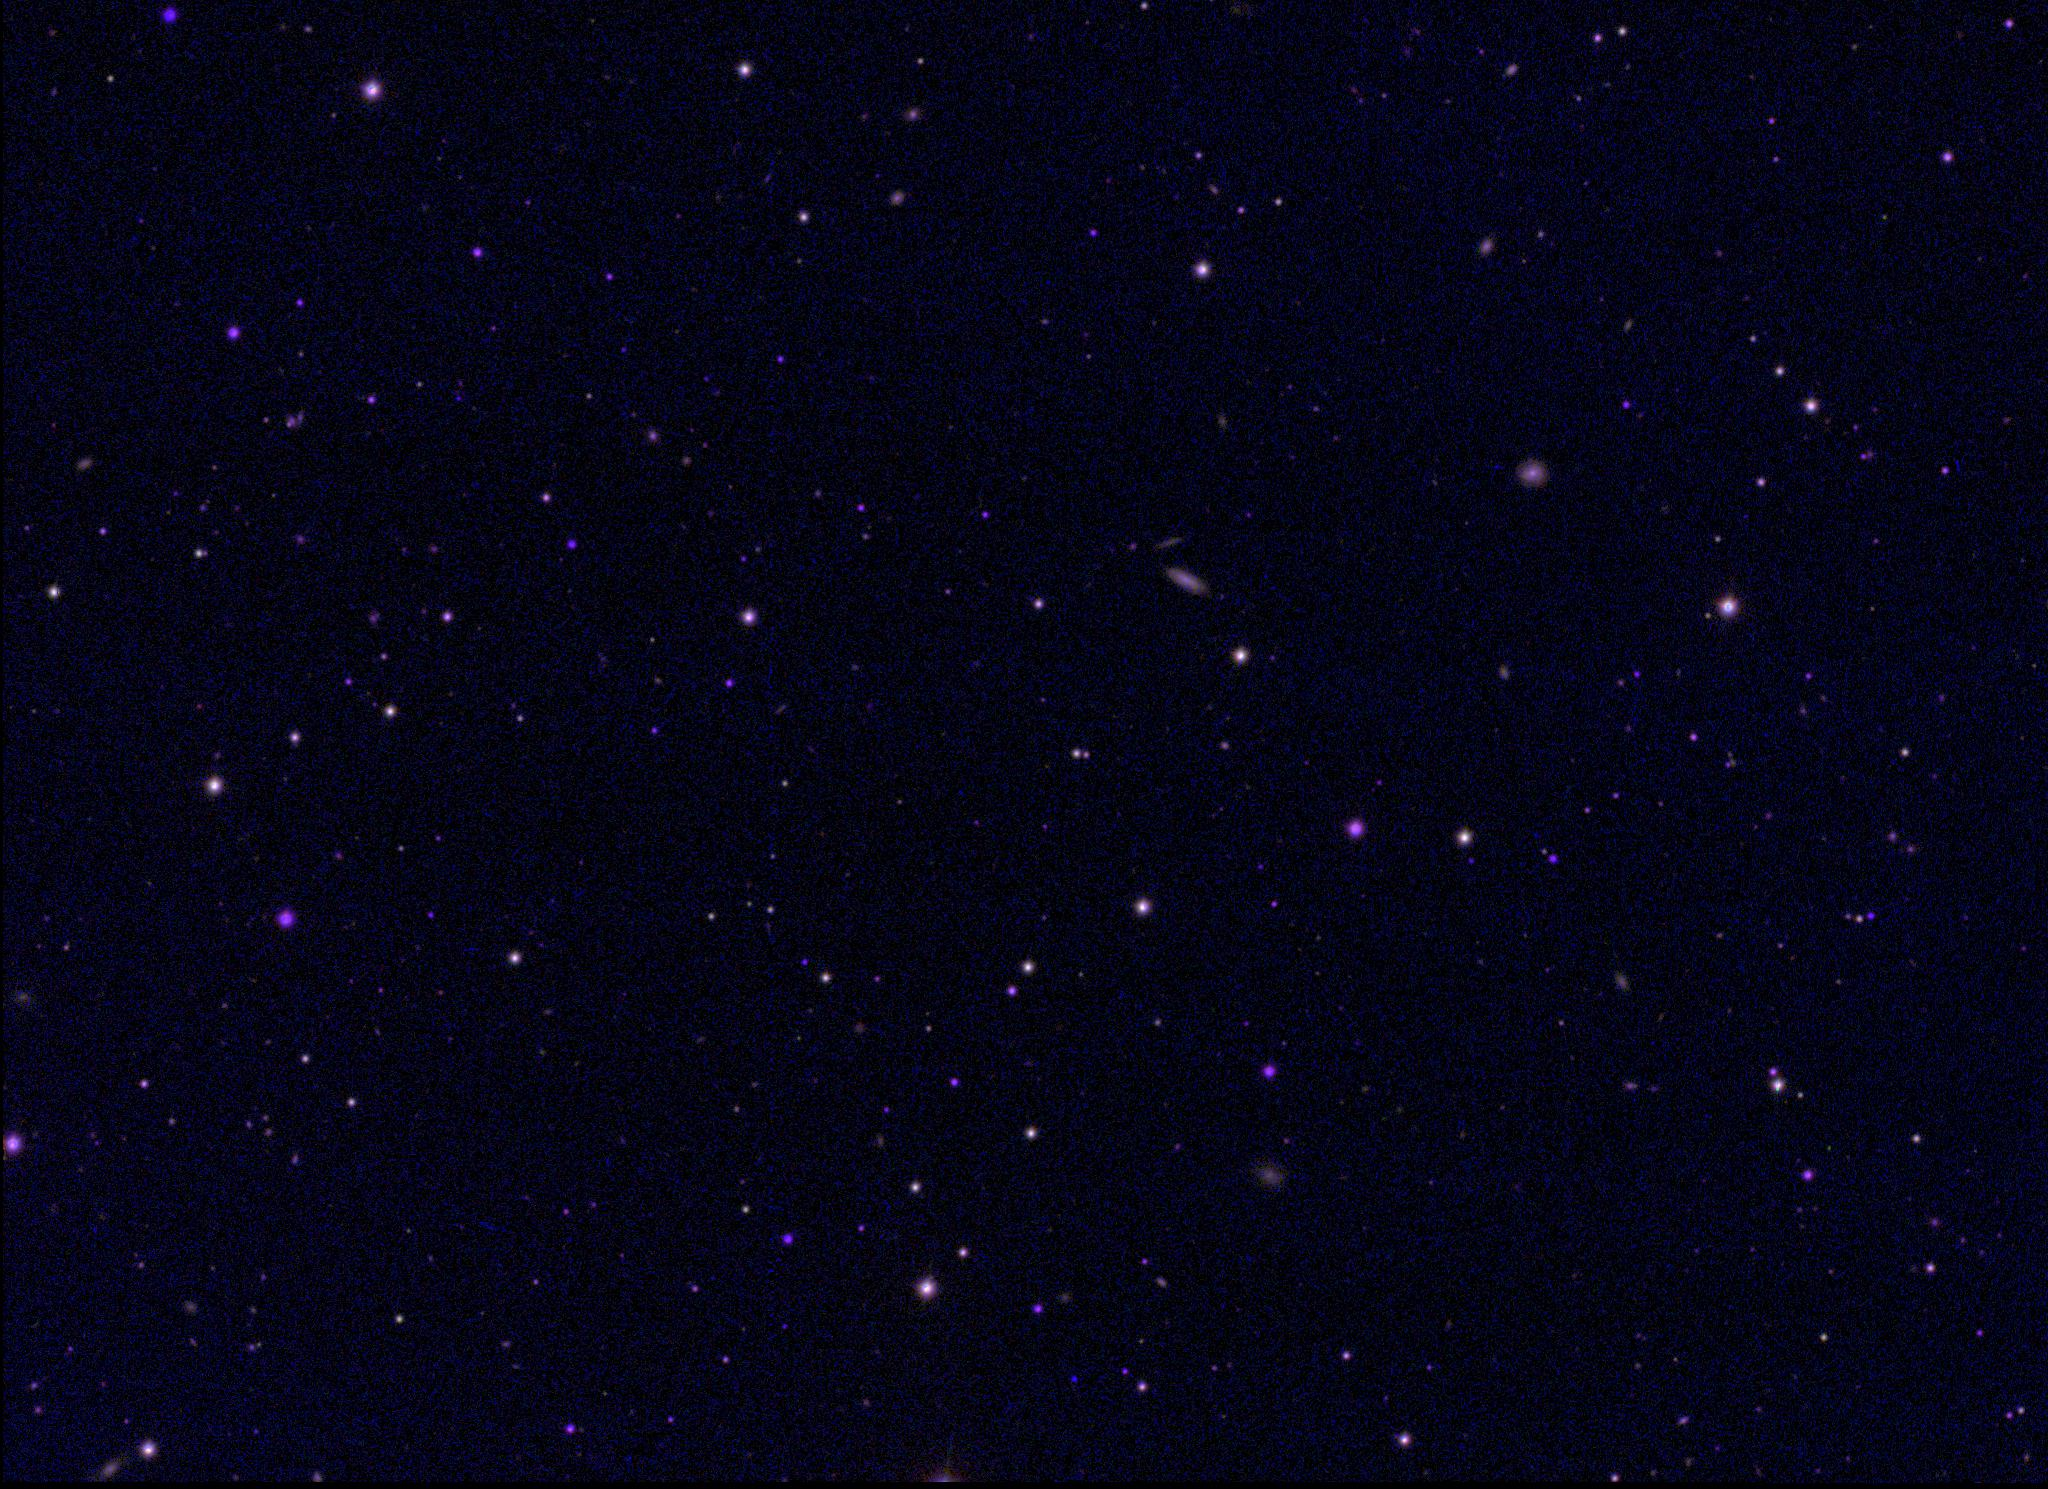L: (1067, 1373, 1081, 1387)
